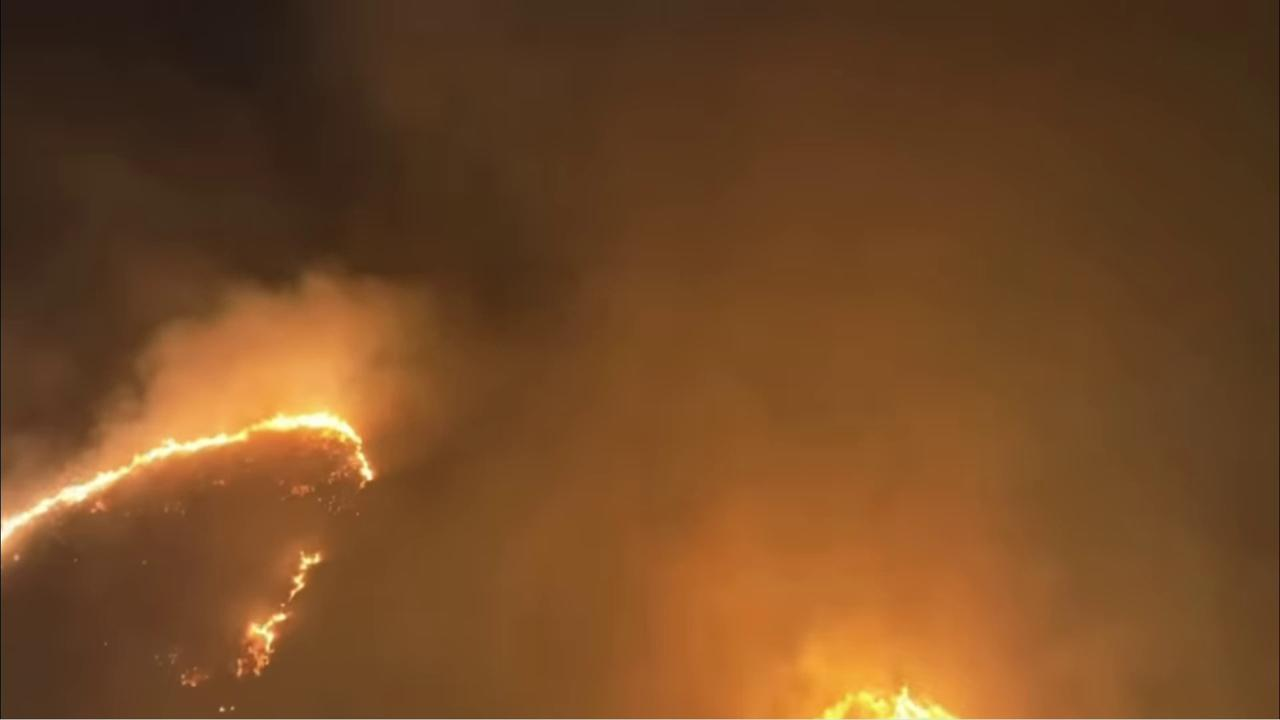fire: (0, 409, 377, 559), (228, 544, 329, 683), (817, 677, 964, 720)
smoke: (0, 0, 1280, 720)
